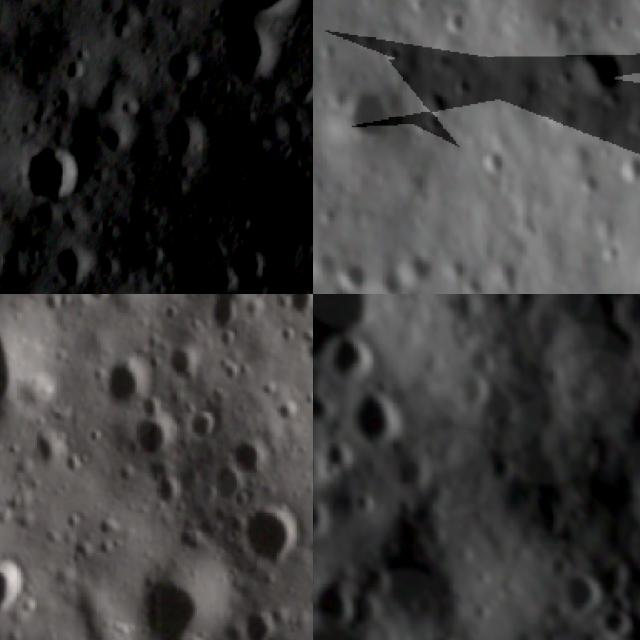crater: (179, 1, 304, 109), (0, 128, 87, 219), (330, 380, 409, 461), (134, 565, 213, 640), (147, 107, 219, 180), (239, 502, 303, 574), (217, 235, 292, 294), (313, 561, 370, 636), (550, 559, 611, 628), (320, 324, 382, 390), (435, 360, 500, 422), (100, 350, 158, 415), (334, 84, 389, 150), (313, 405, 346, 512), (570, 45, 633, 99), (42, 235, 98, 292), (313, 608, 404, 640), (225, 428, 274, 479), (128, 419, 180, 466), (313, 480, 341, 561), (202, 458, 248, 505), (160, 343, 206, 390), (209, 294, 252, 344), (0, 553, 34, 616), (185, 398, 228, 445), (396, 245, 438, 291), (239, 606, 284, 640), (419, 87, 454, 124), (334, 259, 371, 294), (279, 294, 313, 326), (542, 14, 574, 44), (375, 267, 410, 294), (594, 237, 622, 270), (477, 148, 508, 176), (443, 4, 467, 40), (592, 294, 640, 311), (380, 37, 406, 68), (618, 151, 640, 186), (576, 171, 604, 197), (552, 66, 574, 96), (82, 294, 116, 310), (407, 0, 429, 15), (24, 294, 57, 302)
